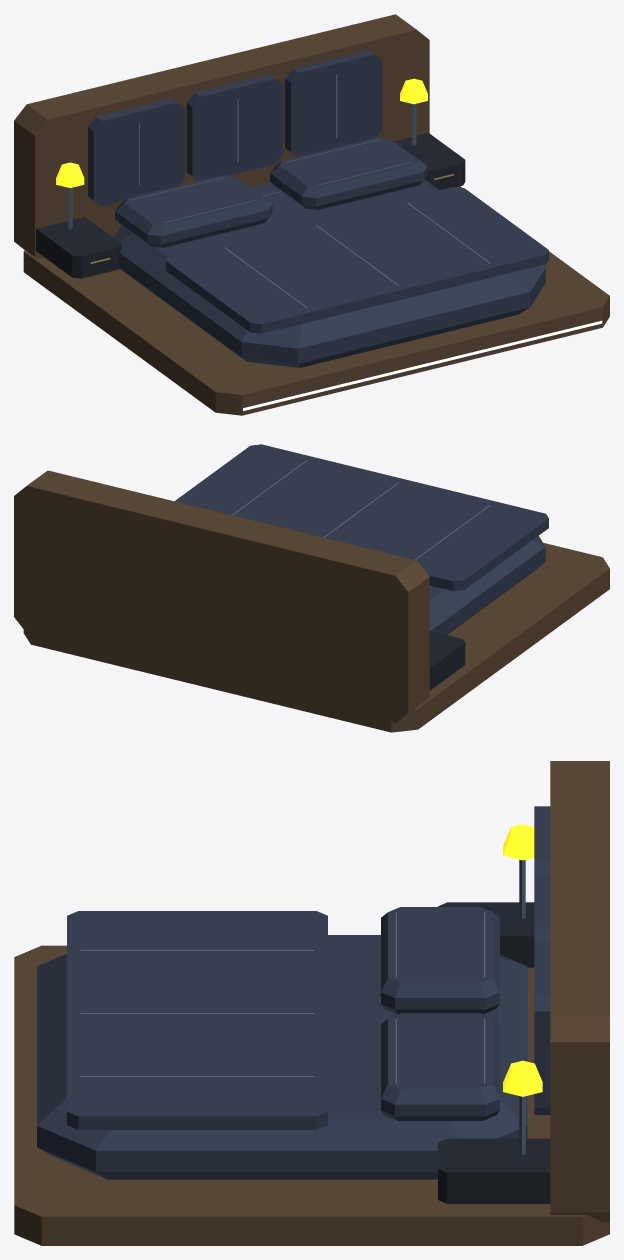
Rendered from res_master_bed_king.glb.
3 views of the same model, one above another, from view 1: azimuth 30°, elevation 25°; view 2: azimuth 150°, elevation 25°; view 3: azimuth 270°, elevation 25° (orthographic). The views are drawn at different scales.
Visible parts, largest first — view 1: folded_duvet, floating_walnut_frame, bedside_drawer, underbed_led, duvet_stitch, reading_shade; view 2: floating_walnut_frame, folded_duvet, bedside_drawer, duvet_stitch; view 3: folded_duvet, floating_walnut_frame, bedside_drawer, reading_shade, duvet_stitch, reading_stem.
Boxes of the visible parts, left/top/right/bottom form: folded_duvet: left=88, top=50, right=548, bottom=367; floating_walnut_frame: left=14, top=14, right=609, bottom=415; bedside_drawer: left=36, top=133, right=465, bottom=278; underbed_led: left=243, top=320, right=602, bottom=410; duvet_stitch: left=131, top=75, right=490, bottom=307; reading_shade: left=56, top=78, right=427, bottom=187; floating_walnut_frame: left=14, top=470, right=609, bottom=732; folded_duvet: left=175, top=444, right=548, bottom=634; bedside_drawer: left=429, top=631, right=465, bottom=690; duvet_stitch: left=231, top=460, right=490, bottom=559; folded_duvet: left=37, top=806, right=550, bottom=1179; floating_walnut_frame: left=14, top=761, right=609, bottom=1245; bedside_drawer: left=438, top=902, right=550, bottom=1203; reading_shade: left=503, top=824, right=542, bottom=1096; duvet_stitch: left=80, top=912, right=485, bottom=1083; reading_stem: left=519, top=859, right=525, bottom=1154.
Size of the model in its own units: 2.8 by 1.25 by 2.6.
